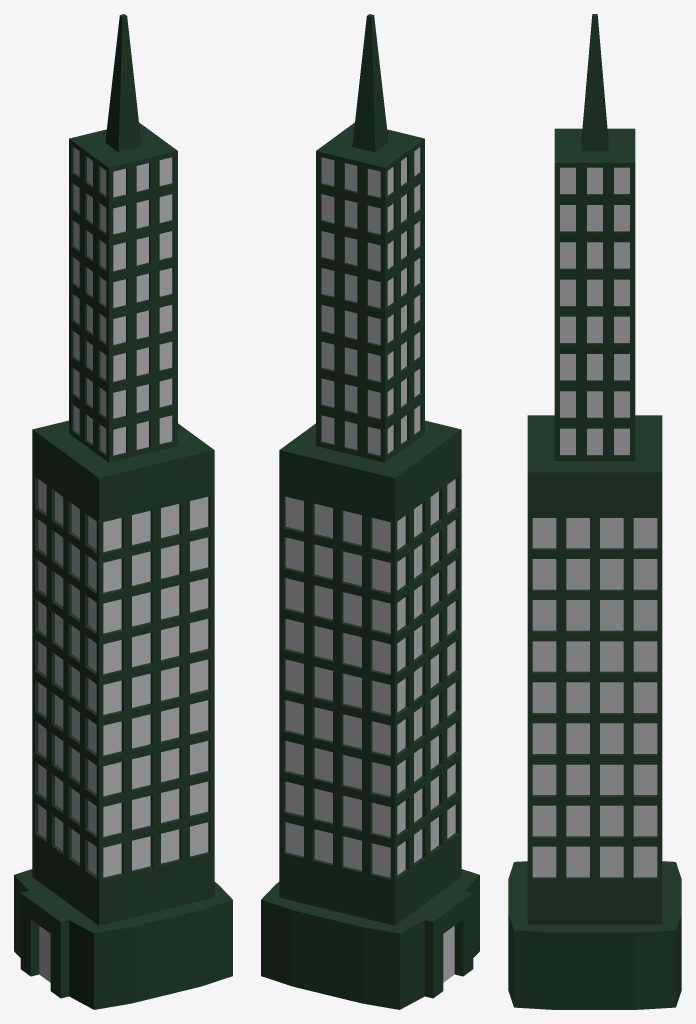
Rendered from skyscraperE.fbx.
3 views of the same model, side by side, from view 1: azimuth 30°, elevation 25°; view 2: azimuth 150°, elevation 25°; view 3: azimuth 270°, elevation 25° (orthographic).
Parts seen in each view (by area): view 1: SkyscraperE; view 2: SkyscraperE; view 3: SkyscraperE.
Part boxes in pixels (x1=…): SkyscraperE: x1=14, y1=14, x2=232, y2=1009; SkyscraperE: x1=261, y1=14, x2=479, y2=1009; SkyscraperE: x1=508, y1=14, x2=681, y2=1009.
Bounding box in the file's own units: 789 × 4556 × 747.
